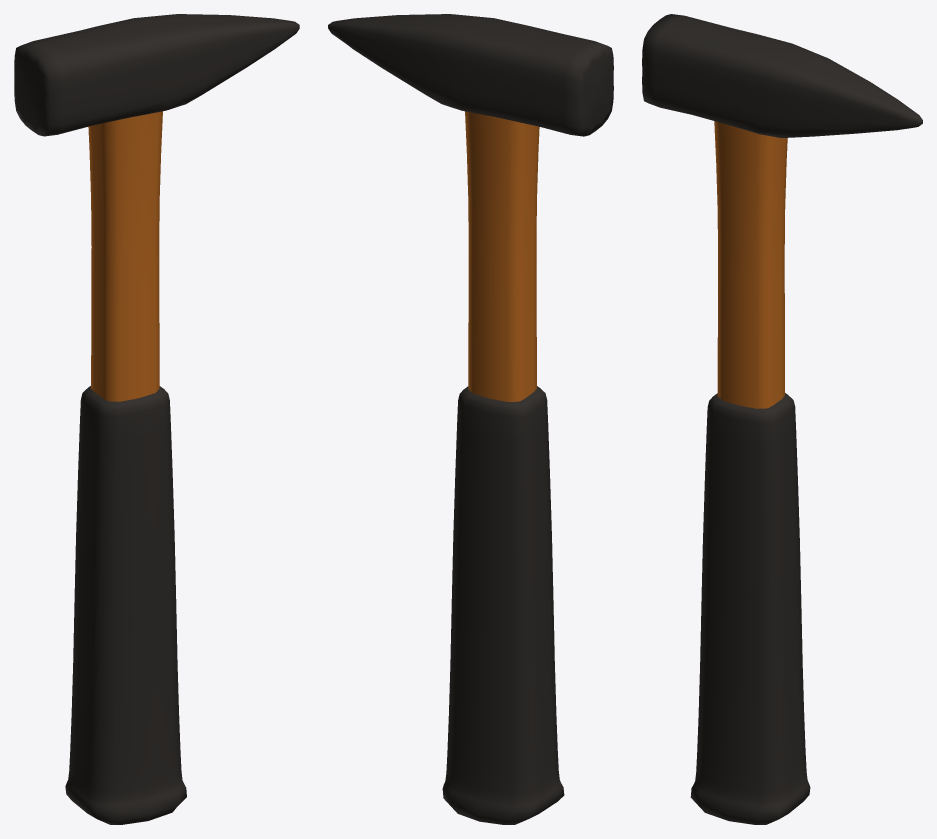
Rendered from Cekic.fbx.
3 views of the same model, side by side, from view 1: azimuth 30°, elevation 25°; view 2: azimuth 150°, elevation 25°; view 3: azimuth 330°, elevation 25° (orthographic).
Visible parts, largest first — view 1: Cekic; view 2: Cekic; view 3: Cekic.
Part boxes in pixels (box(x1,y1,x2,y2)): Cekic: box(14, 14, 299, 824); Cekic: box(328, 14, 613, 824); Cekic: box(642, 14, 922, 824).
Bounding box in the file's own units: 17.55 × 48.74 × 5.53.
Materials: 1 (1 with a texture image).
